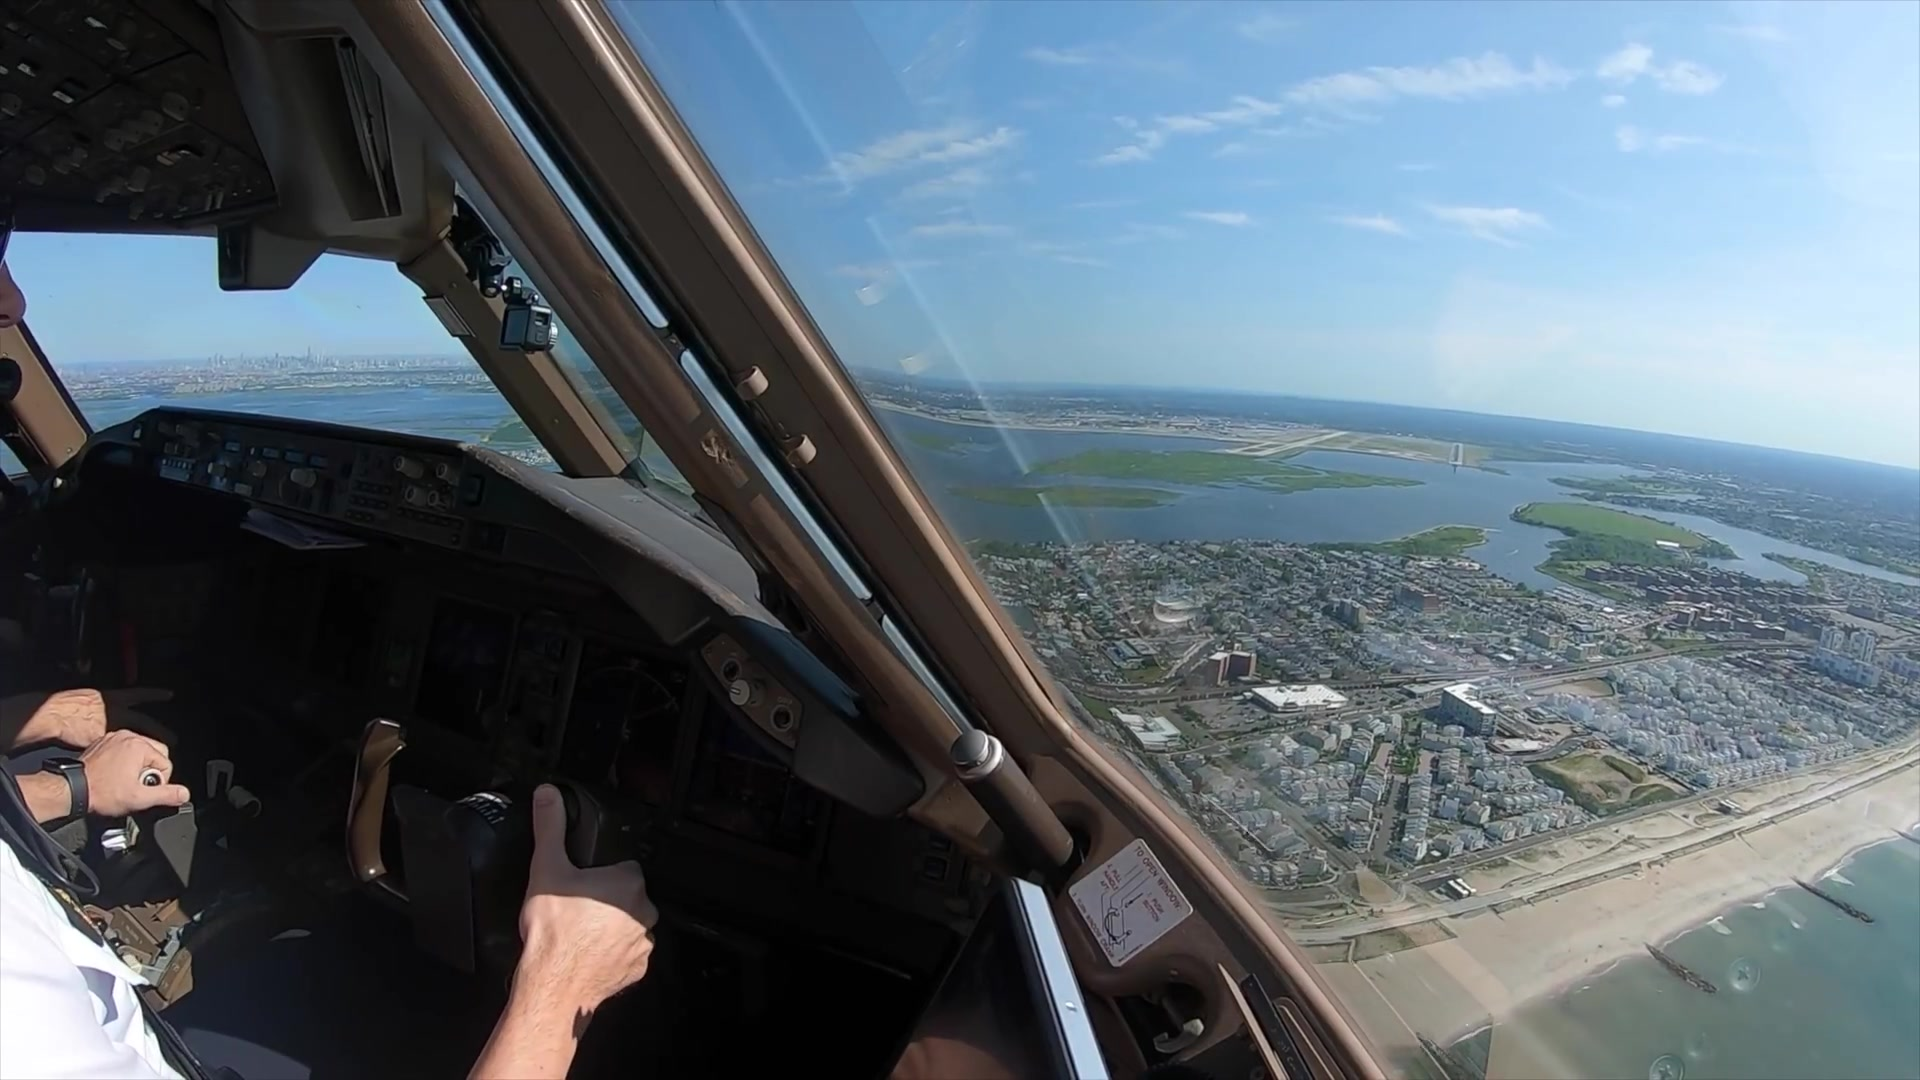runway: (1251, 430, 1353, 456), (1444, 442, 1466, 465)
